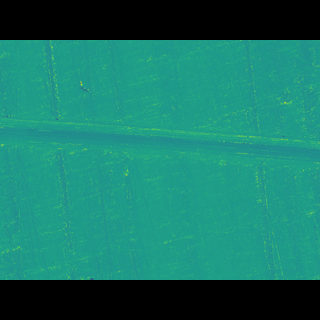Loch: (0, 126, 320, 170)
